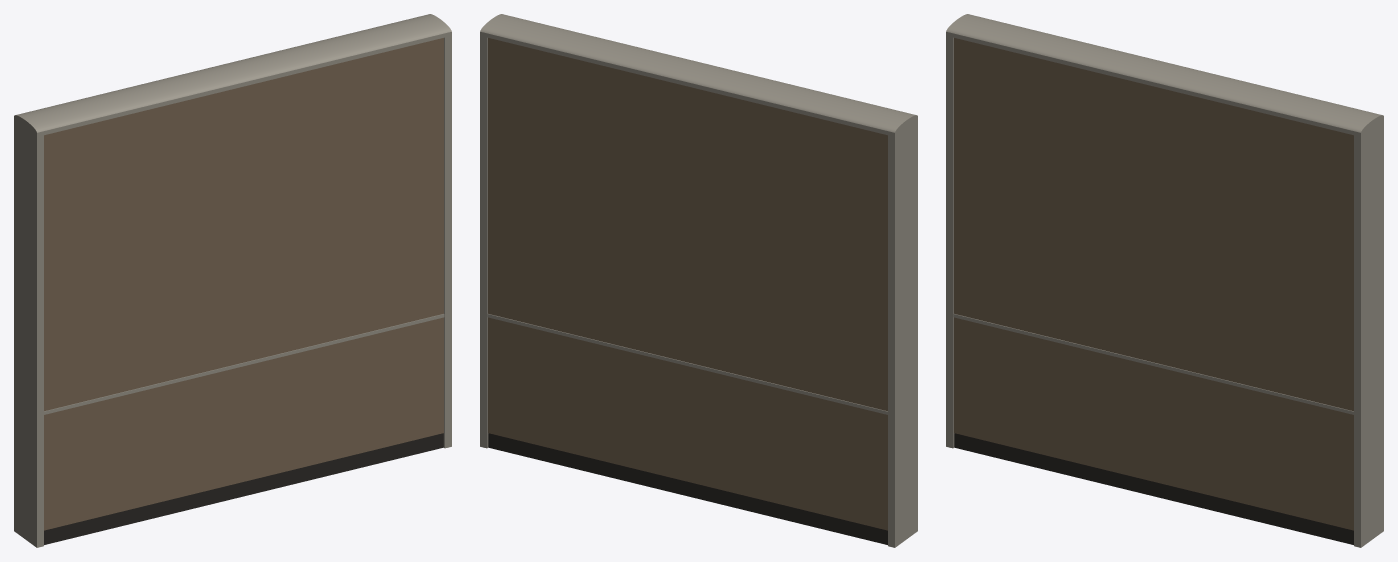
The model's file is SM_CubiclePanel80s_262.glb.
3 renders of one model, left to right at view 1: azimuth 30°, elevation 25°; view 2: azimuth 150°, elevation 25°; view 3: azimuth 330°, elevation 25°, orthographic.
Parts seen in each view (by area): view 1: SM_CubiclePanel80s_262; view 2: SM_CubiclePanel80s_262; view 3: SM_CubiclePanel80s_262.
Part boxes in pixels (x1,y1,x2,y2): SM_CubiclePanel80s_262: (14,14,451,547); SM_CubiclePanel80s_262: (480,14,917,547); SM_CubiclePanel80s_262: (946,14,1383,547).
Size of the model in its own units: 2.62 by 2.53 by 0.25.
